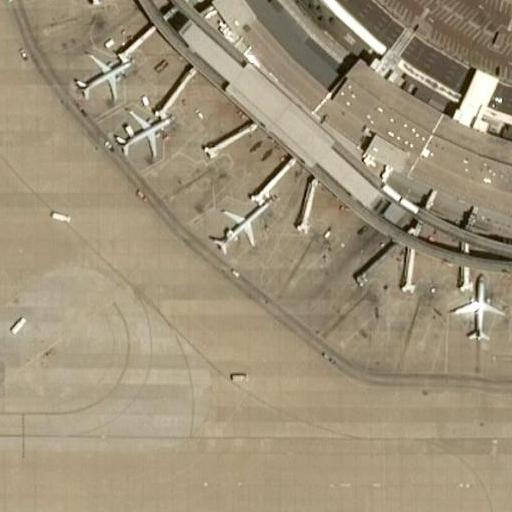Aircraft: (452, 273, 507, 344), (112, 105, 174, 164), (207, 197, 265, 258), (71, 47, 135, 101)
